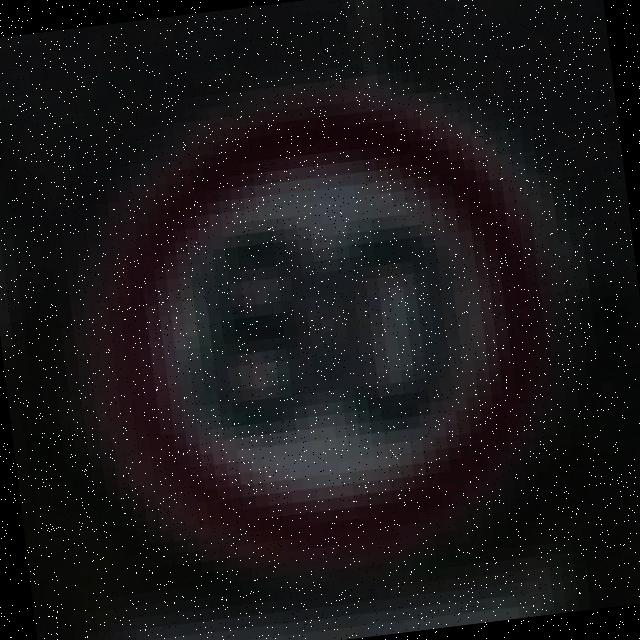Ograniczenie predkosci do 80: (62, 65, 582, 592)
